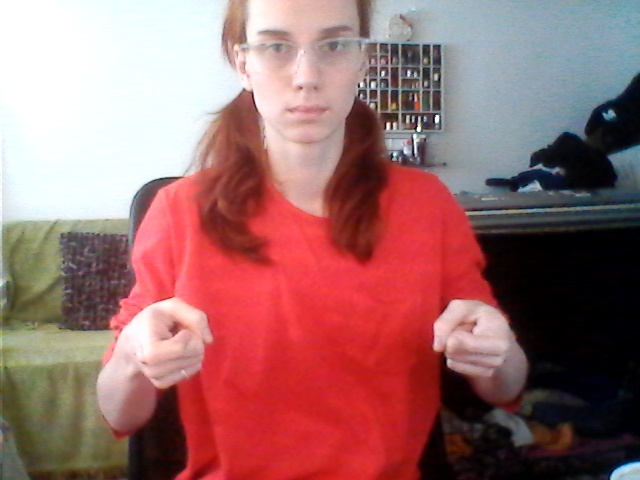davat: (129, 284, 521, 396)
